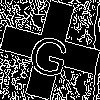G: (25, 25, 74, 80)
